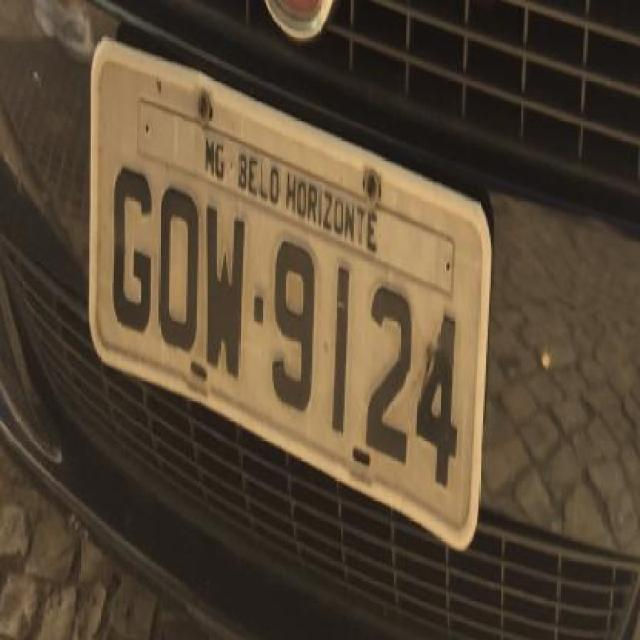old_plate: (80, 28, 502, 558)
